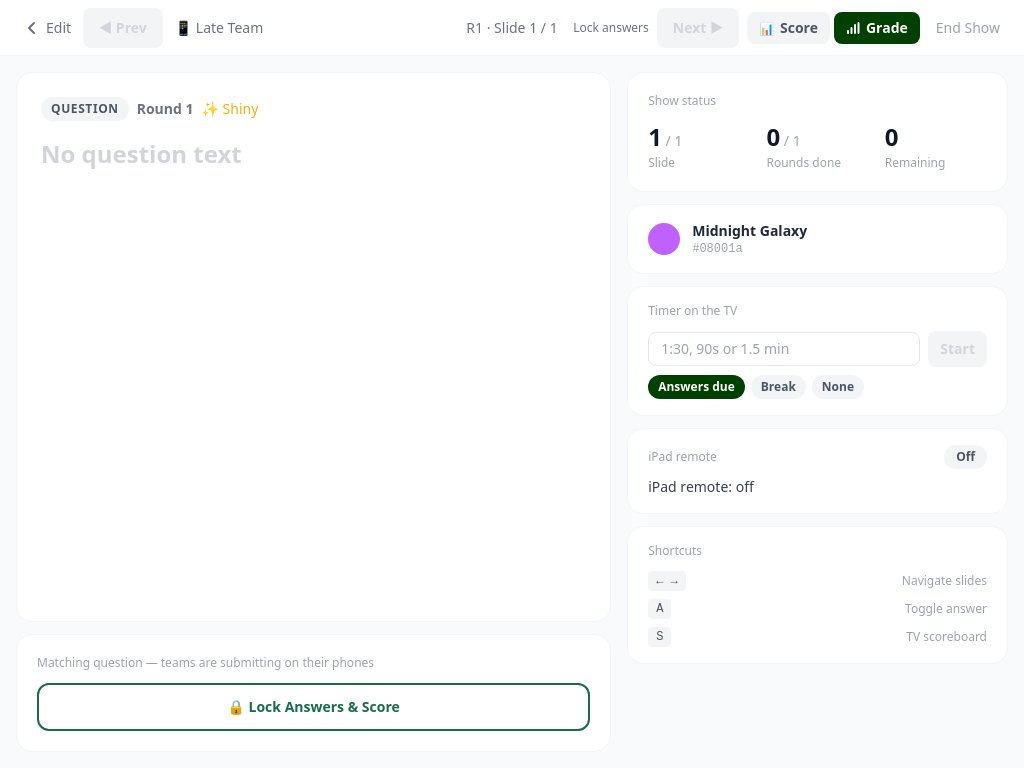
Test: lockAndScore Supabase sequence (characterization) › an early return inside the segment (unmatched teams) still frees the chain and skips the upsert
Click the button "🔒 Lock Answers & Score" at (314, 707), box [37, 683, 590, 731]
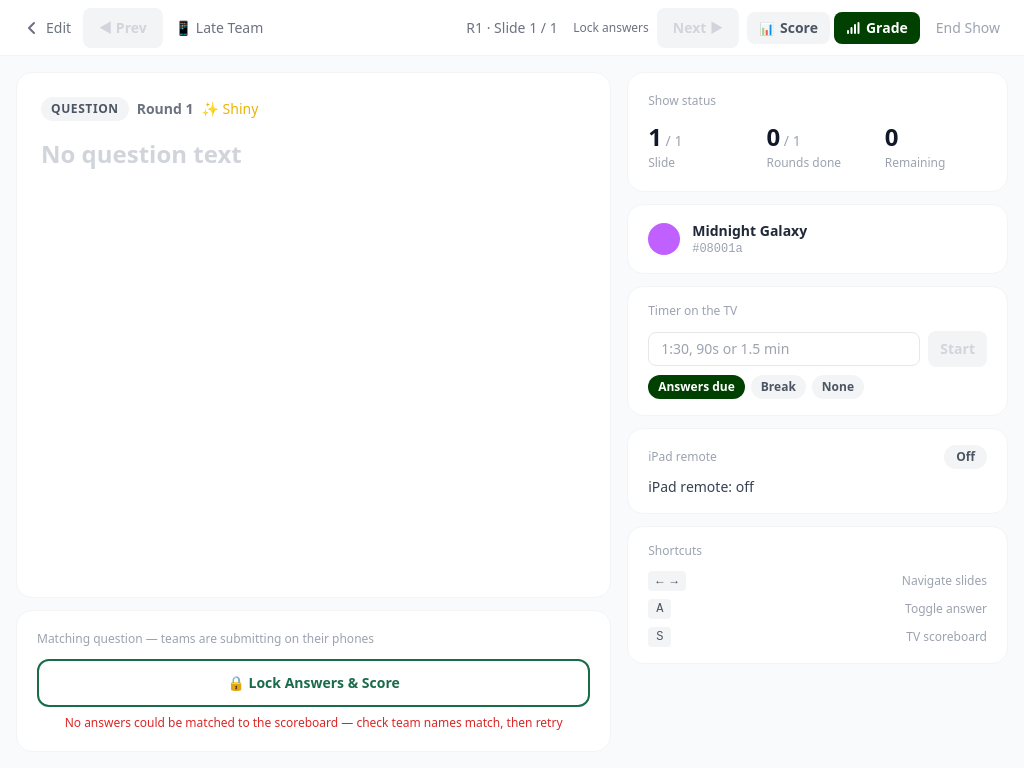
Expected: the text "No answers could be matched to the scoreboard" is shown, [65, 714, 562, 731]
